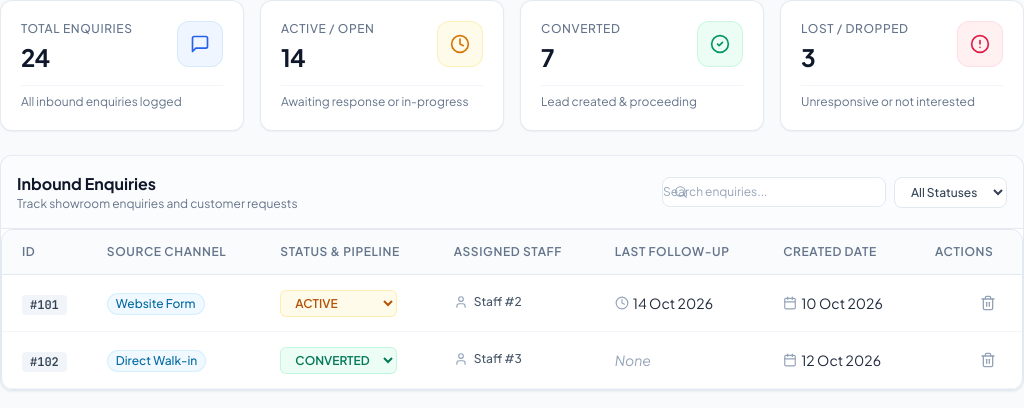
it: EnquiryList (Phase 3 Redesign) › filters enquiries using the search bar
The image size is (1024, 408).
Expected: the text "Website Form" is shown, [107,292,204,314]
Type "Direct Walk-in" into the field with placeholder "Search enquiries...".
click(774, 192); type("Direct Walk-in")  # box [662,177,886,207]
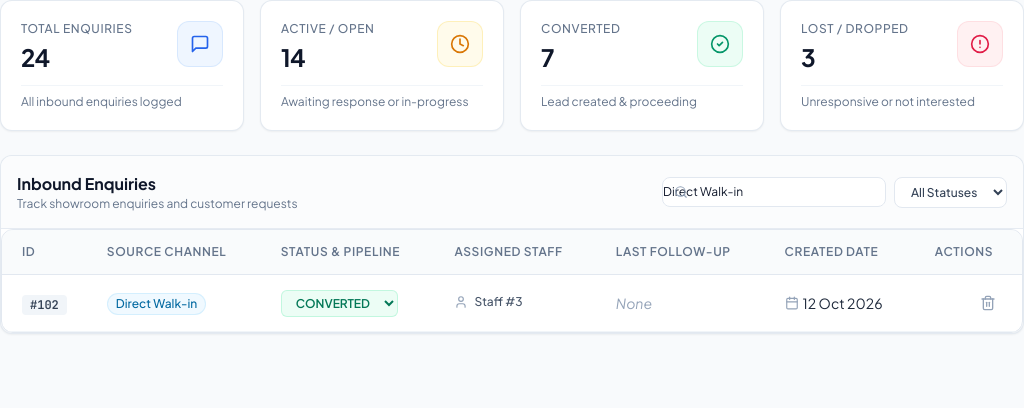
Expected: the text "Direct Walk-in" is shown, [107,292,206,314]
Expected: the text "Website Form" is gone
